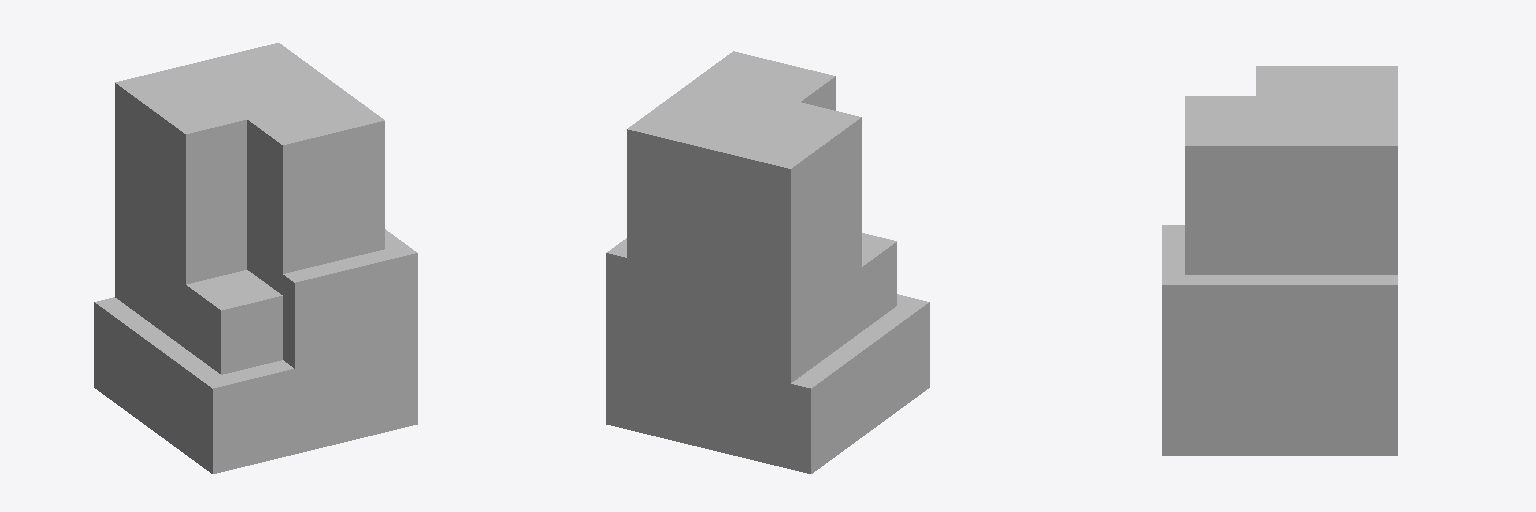
Rendered from Wall_02.obj.
The picture shows the model from 3 angles: view 1: azimuth 30°, elevation 25°; view 2: azimuth 150°, elevation 25°; view 3: azimuth 270°, elevation 25°; orthographic projection.
Visible parts, largest first — view 1: Untitled; view 2: Untitled; view 3: Untitled.
Boxes of the visible parts, x1,y1,x2,y2 form: Untitled: [94, 43, 417, 473]; Untitled: [606, 51, 929, 473]; Untitled: [1162, 66, 1397, 455].
Size of the model in its own units: 1 by 1.4 by 1.